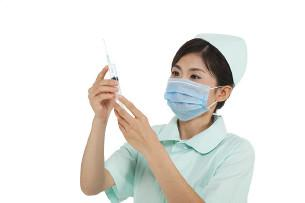OK: (163, 62, 223, 122)
